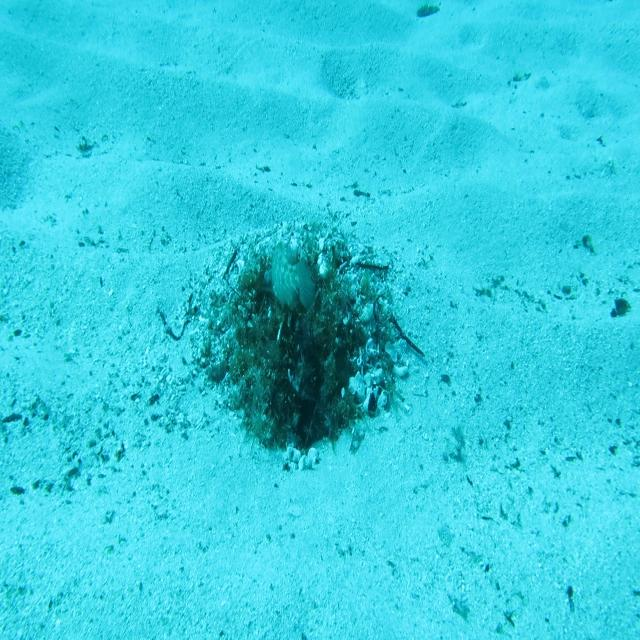NIP_CORE: (263, 239, 320, 315)
core_nest: (267, 277, 323, 317)
nest: (184, 202, 422, 486)
vegetation: (413, 5, 442, 19)
